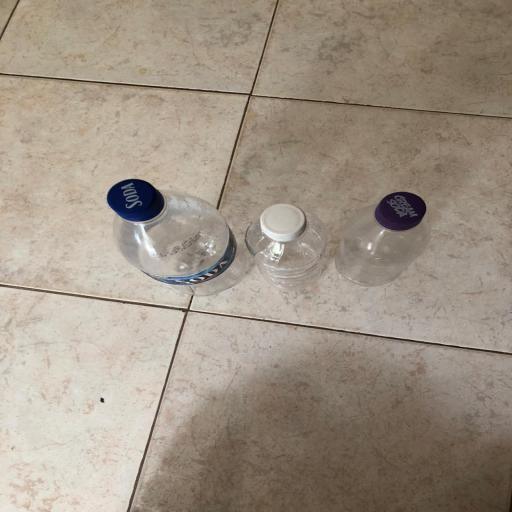waste: (100, 171, 249, 308), (337, 188, 437, 304), (232, 194, 338, 291)
